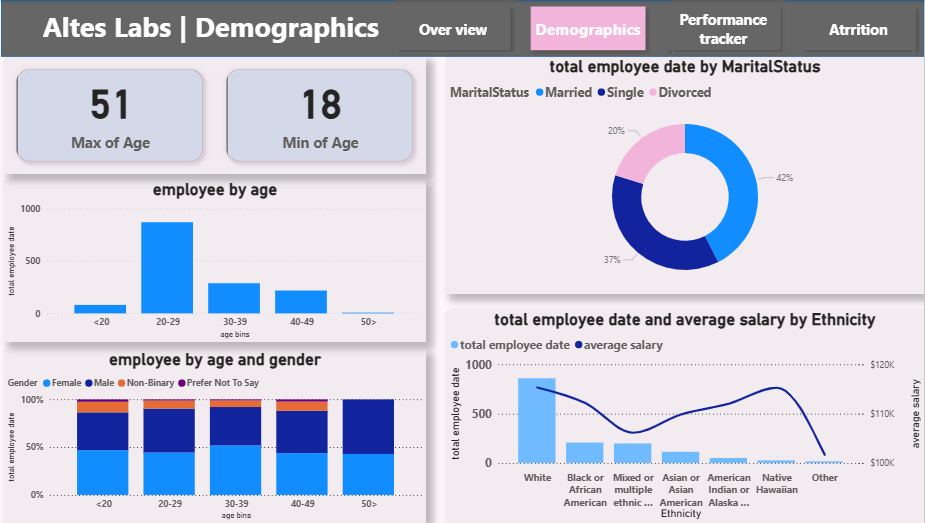

Layout of this report page (visuals, bound fields, positions):
{"tool":"powerbi","page":{"name":"Demographics","canvas":[1280,720],"ordinal":1},"visuals":[{"type":"shape","box":[9.8,0,1270.5,78.3],"z":0},{"type":"pageNavigator","box":[544.2,0,736.1,78.3],"z":1000},{"type":"cardVisual","fields":{"Data":["Max(DimEmployee.Age)","Min(DimEmployee.Age)"]},"box":[13.5,78.3,580.8,161.4],"z":2000},{"type":"columnChart","title":"employee by age ","fields":{"Y":["_measures.total employee date"],"Category":["DimEmployee.age bins"]},"box":[13.5,248.2,580.8,222.6],"z":3000},{"type":"hundredPercentStackedColumnChart","title":"employee by age and gender","fields":{"Y":["_measures.total employee date"],"Category":["DimEmployee.age bins"],"Series":["DimEmployee.Gender"]},"box":[13.5,481.8,580.8,238.5],"z":4000},{"type":"donutChart","fields":{"Y":["_measures.total employee date"],"Category":["DimEmployee.MaritalStatus"]},"box":[622.4,78.3,657.9,326.5],"z":5000},{"type":"lineStackedColumnComboChart","fields":{"Category":["DimEmployee.Ethnicity"],"Y":["_measures.total employee date"],"Y2":["_measures.average salary"]},"box":[622.4,426.8,657.9,293.5],"z":6000},{"type":"actionButton","box":[933,0,155.3,74.6],"z":7000},{"type":"actionButton","box":[552.7,0,167.5,74.6],"z":8000},{"type":"actionButton","box":[1114,3.7,154.1,70.9],"z":9000},{"type":"textbox","box":[61.9,5.5,488.6,61.9],"z":10000}]}

Visuals, with their boxes in screenshot pixels (x1, y1, x2, y2), scaled from the page's 1280x720 canvas onto the 925x523 screenshot:
shape: locate(7, 0, 924, 57)
pageNavigator: locate(393, 0, 924, 57)
cardVisual - Max(DimEmployee.Age) x Min(DimEmployee.Age): locate(10, 57, 429, 174)
"employee by age " columnChart: locate(10, 180, 429, 342)
"employee by age and gender" hundredPercentStackedColumnChart: locate(10, 350, 429, 522)
donutChart - _measures.total employee date x DimEmployee.MaritalStatus: locate(450, 57, 924, 294)
lineStackedColumnComboChart - DimEmployee.Ethnicity x _measures.total employee date: locate(450, 310, 924, 522)
actionButton: locate(674, 0, 786, 54)
actionButton: locate(399, 0, 520, 54)
actionButton: locate(805, 3, 916, 54)
textbox: locate(45, 4, 398, 49)
